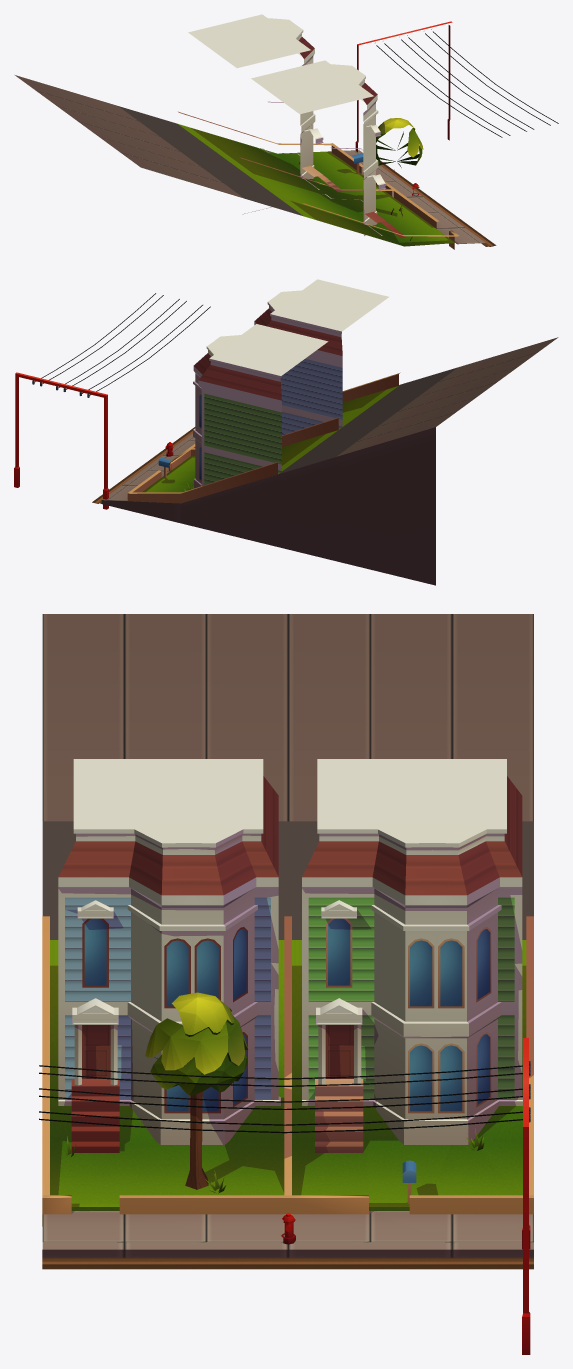
File: 1.100_SanFrancisco_high_02_right.glb
3 views of the same model, one above another, from view 1: azimuth 30°, elevation 25°; view 2: azimuth 150°, elevation 25°; view 3: azimuth 270°, elevation 25° (orthographic). The views are drawn at different scales.
Visible parts, largest first — view 1: 1.100_SanFrancisco_high_02_right; view 2: 1.100_SanFrancisco_high_02_right; view 3: 1.100_SanFrancisco_high_02_right.
Part boxes in pixels (bbox=[...]): 1.100_SanFrancisco_high_02_right: bbox=[15, 14, 558, 249]; 1.100_SanFrancisco_high_02_right: bbox=[14, 279, 558, 585]; 1.100_SanFrancisco_high_02_right: bbox=[39, 614, 533, 1354].
Bounding box in the file's own units: 358 × 138 × 181.
3 materials, 3 textured.
